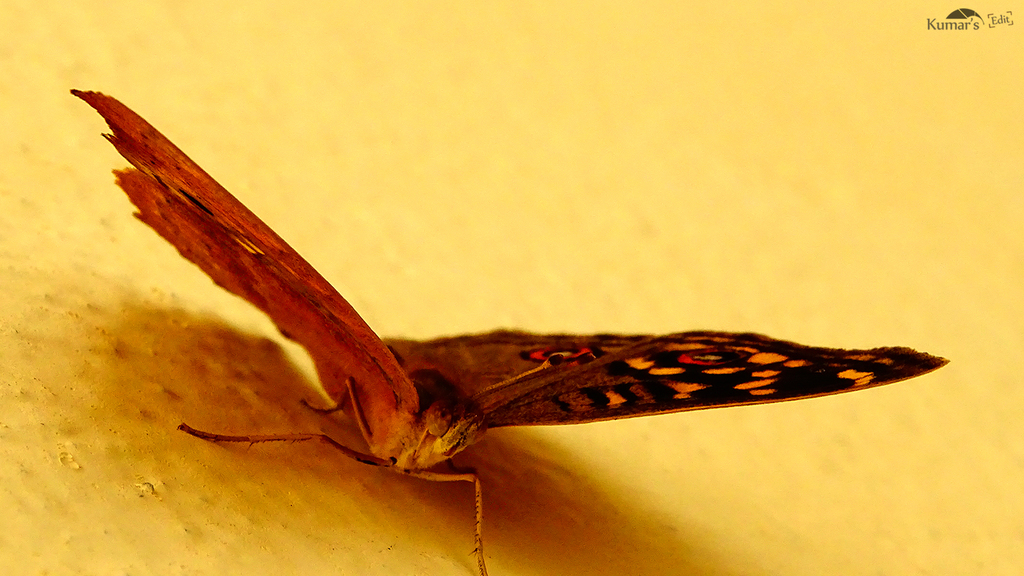Butterfly: (56, 71, 944, 558)
